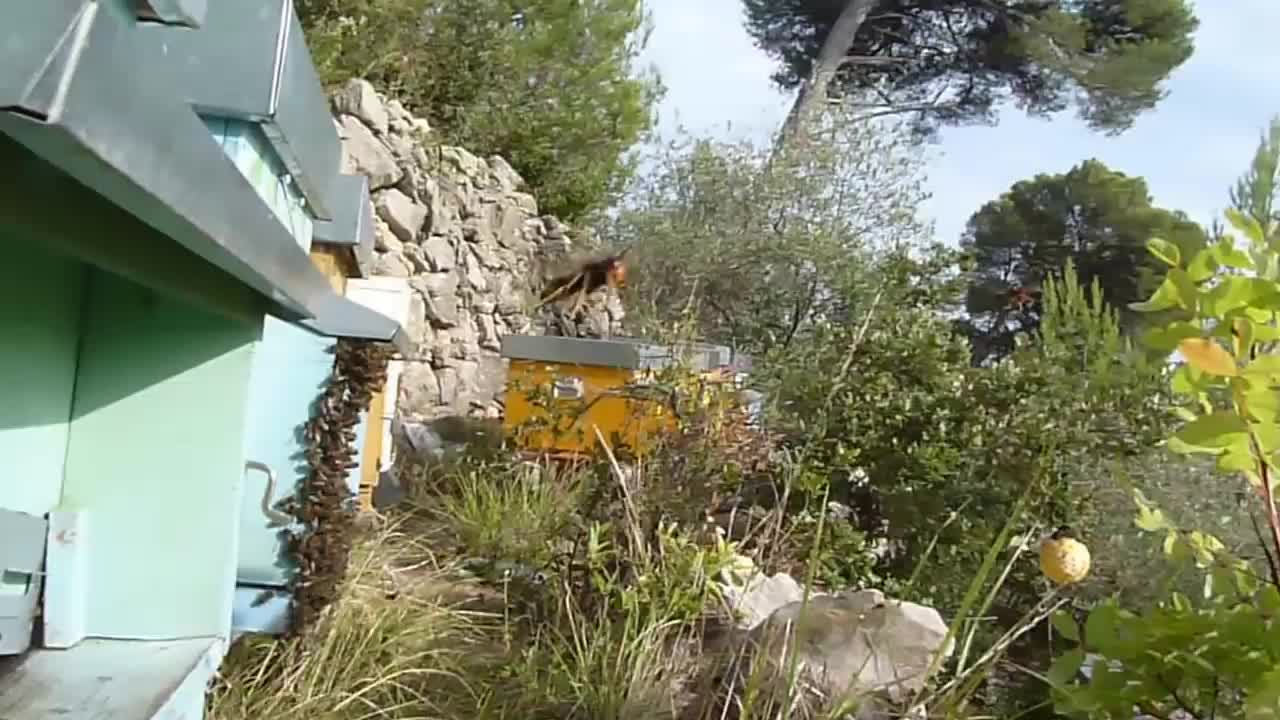bee: (301, 457, 359, 524), (320, 379, 374, 446), (288, 522, 353, 576), (287, 574, 347, 628), (327, 340, 391, 388), (295, 416, 335, 461), (244, 590, 282, 615)
hornet: (545, 244, 626, 309)
